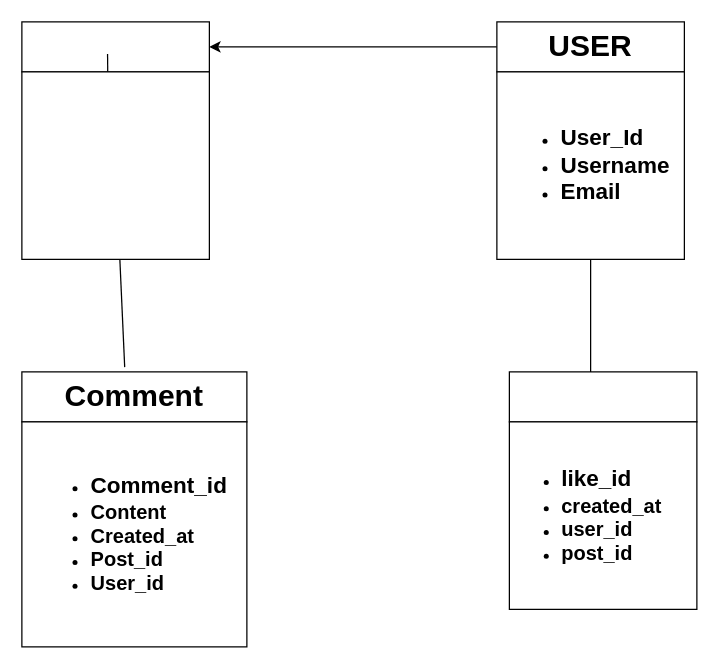
Some shapes in this 719 by 669 pixel diagram are drawn without their labels. The shapes that lost their labels are listed below. From the top down, each one's centre as x and y in pixels, then its label:
the point at 115,46: POST
the point at 115,165: Post_Id Content Created_at
the point at 602,396: LIKE
